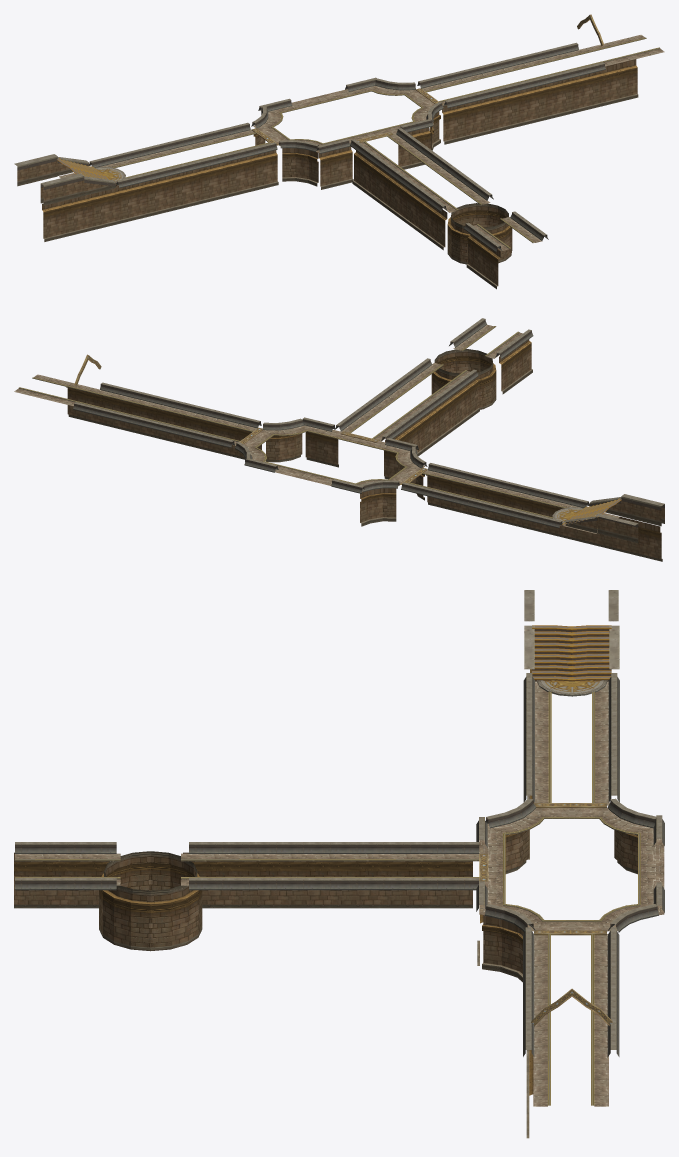
The model's file is diji.FBX.
3 renders of one model, top to bottom at view 1: azimuth 30°, elevation 25°; view 2: azimuth 150°, elevation 25°; view 3: azimuth 270°, elevation 25°, orthographic. The views are drawn at different scales.
Visible parts, largest first — view 1: weiqiang2, hulan, hengdang, louti; view 2: weiqiang2, hulan, hengdang, louti; view 3: hulan, weiqiang2, louti, hengdang, banyuantai.
Part boxes in pixels (box(x1,y1,x2,y2)): weiqiang2: box(17, 59, 638, 289); hulan: box(14, 35, 664, 252); hengdang: box(251, 14, 603, 145); louti: box(57, 158, 116, 185); weiqiang2: box(66, 339, 664, 561); hulan: box(14, 318, 664, 533); hengdang: box(74, 354, 427, 484); louti: box(562, 498, 621, 525); hulan: box(15, 590, 664, 1106); weiqiang2: box(14, 669, 637, 1138); louti: box(532, 625, 611, 681); hengdang: box(479, 803, 612, 1026); banyuantai: box(537, 680, 607, 696).
Size of the model in its own units: 4706 by 585 by 2677.
